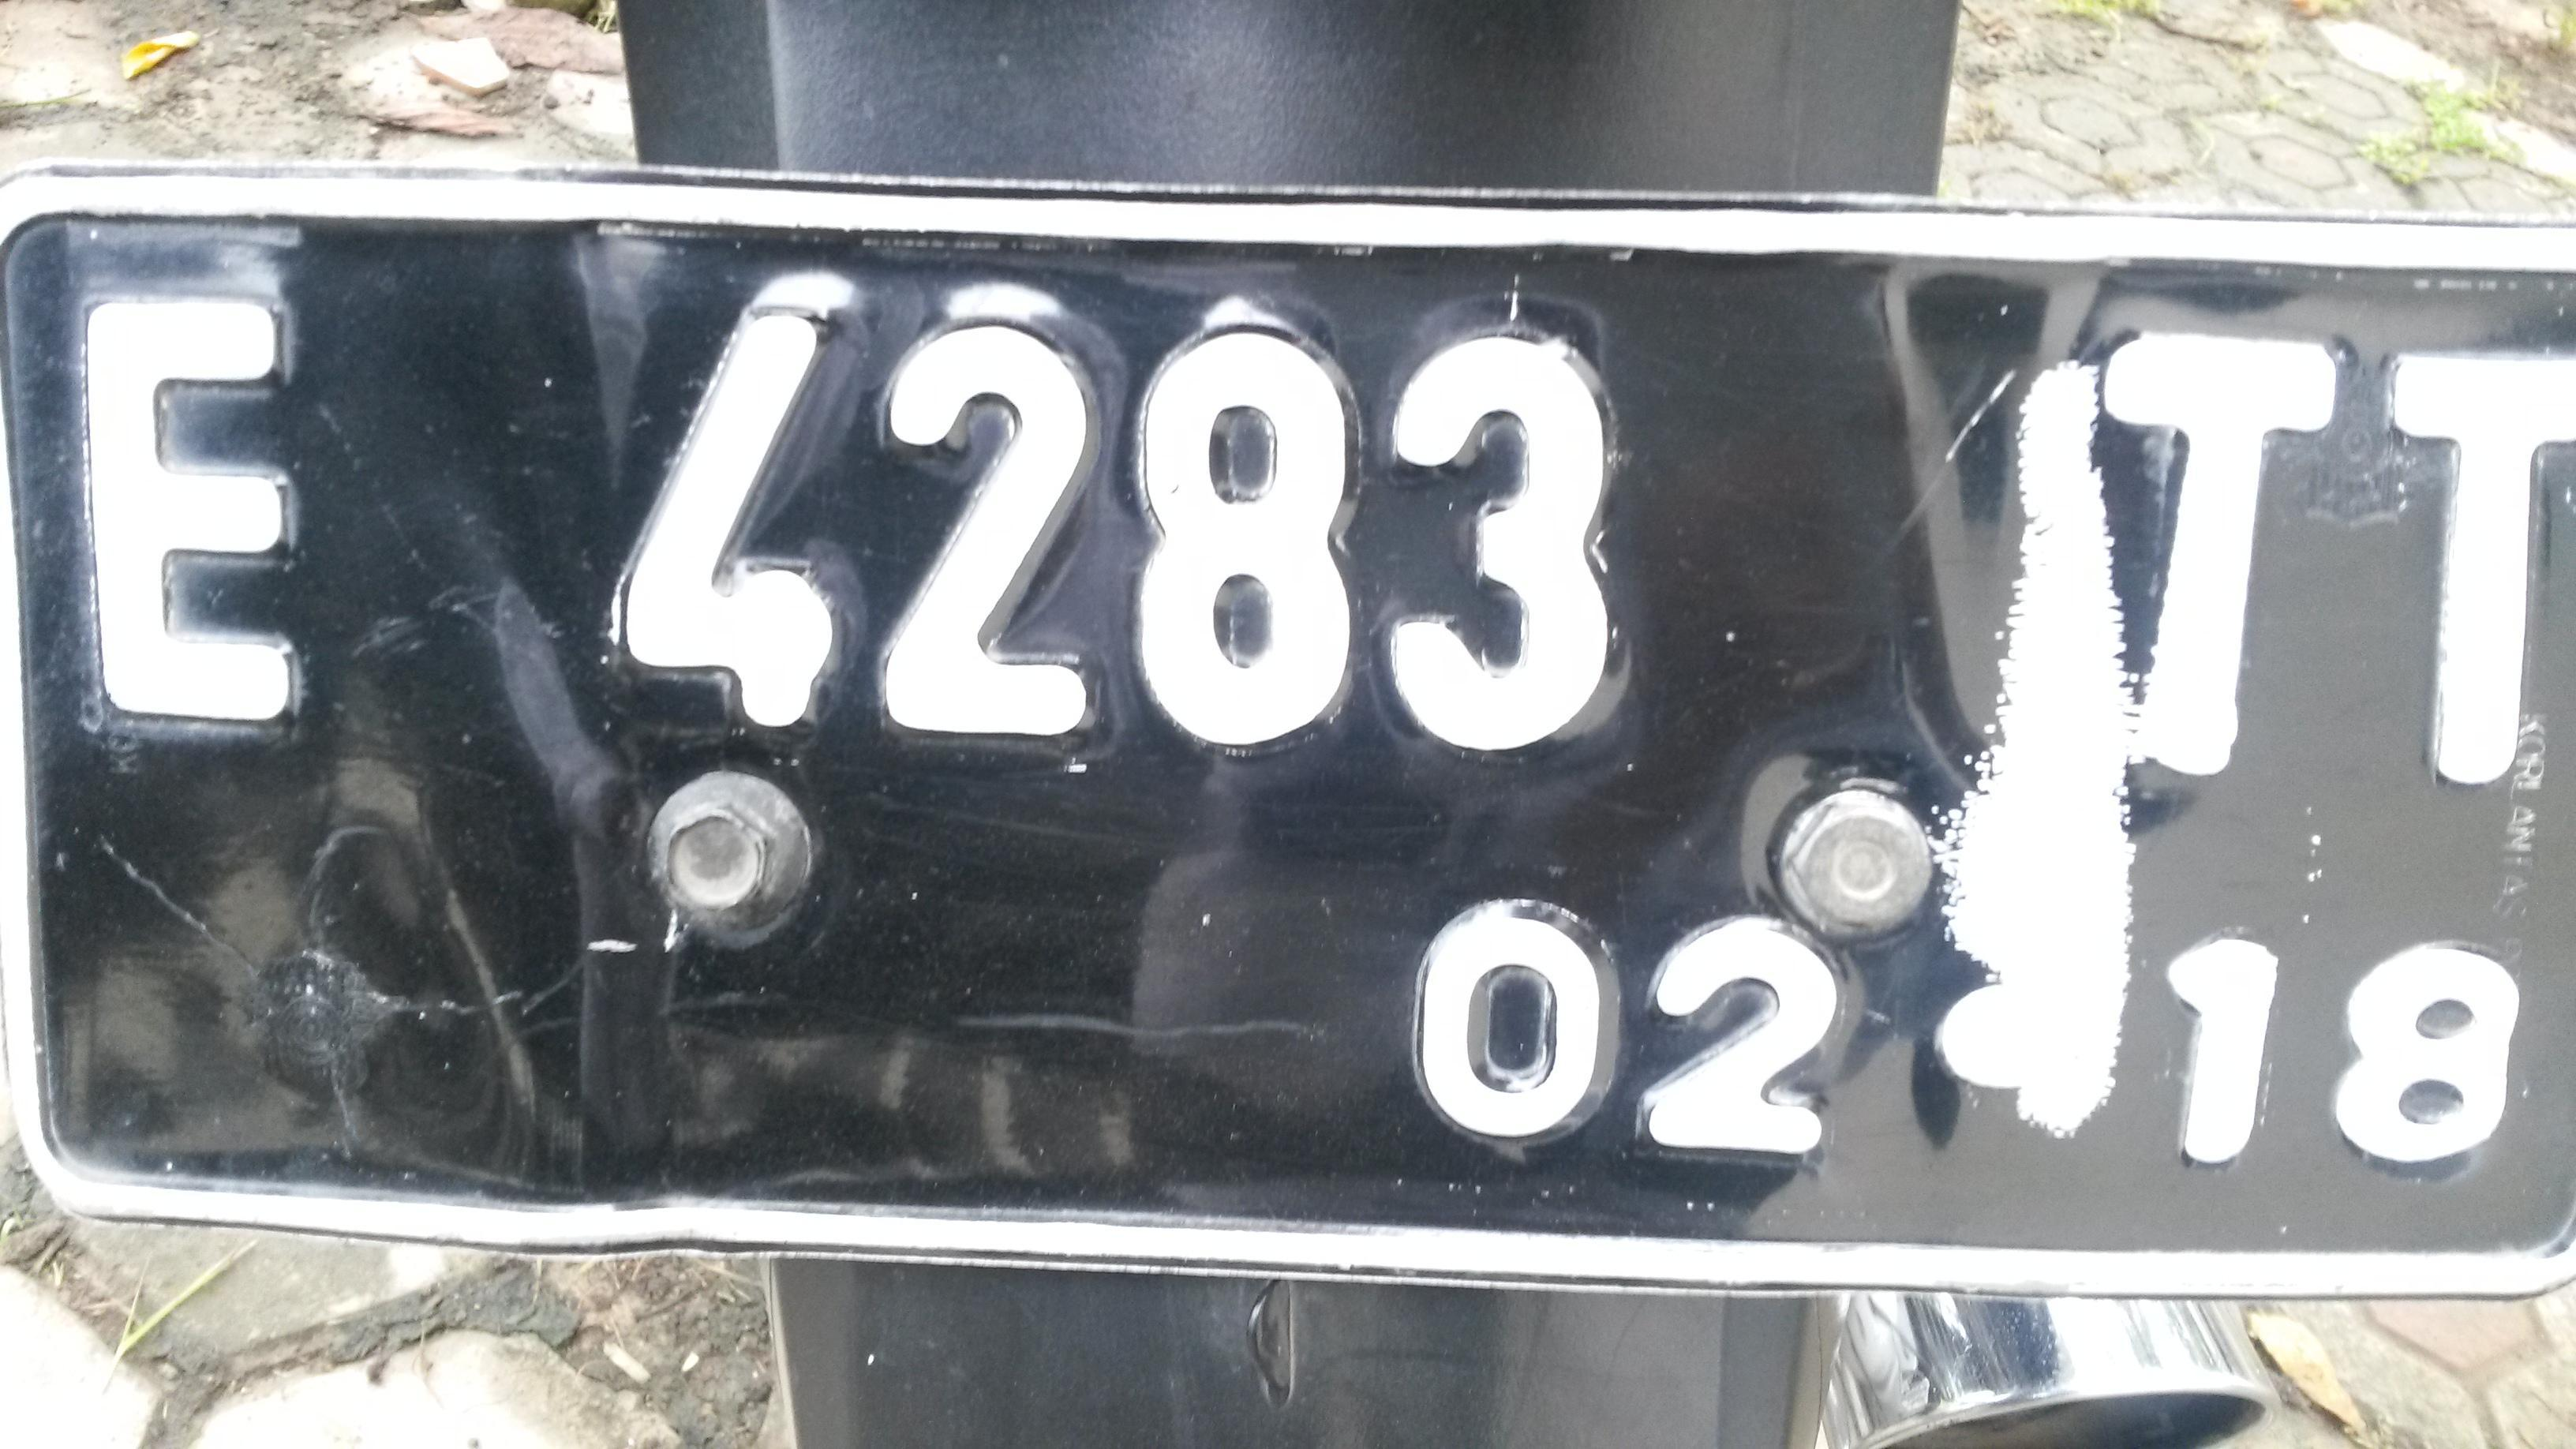clone-license-plate: (0, 163, 2575, 1311)
